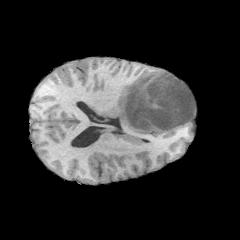glioma: (114, 72, 181, 136)
